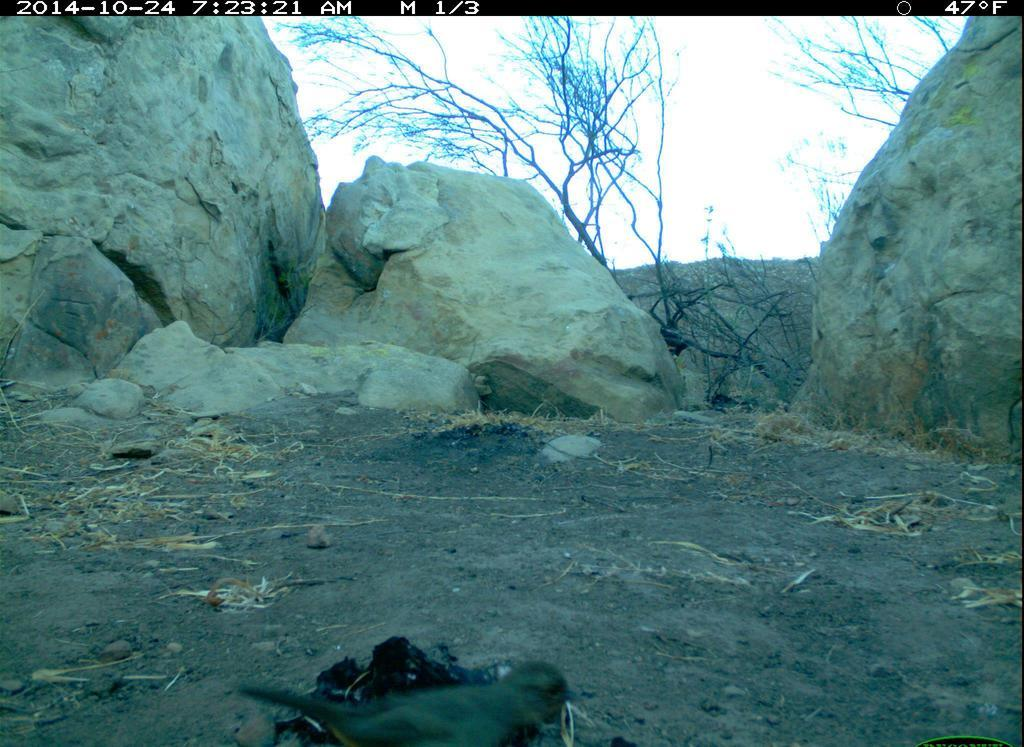bird: (234, 658, 582, 747)
